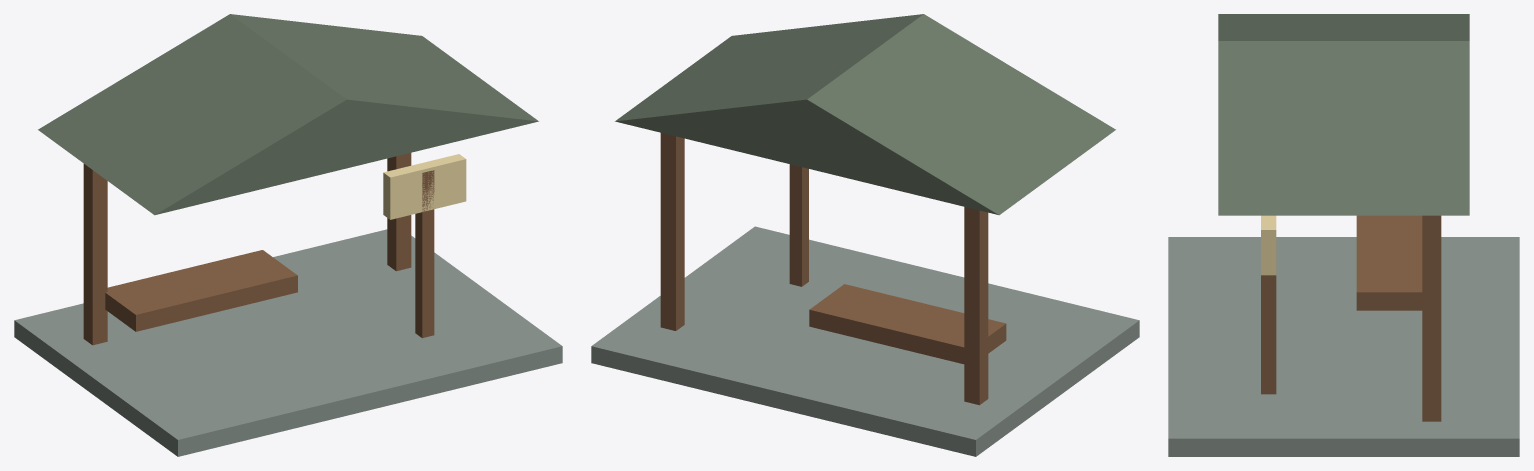
Rendered from bld_coach_station.glb.
3 views of the same model, side by side, from view 1: azimuth 30°, elevation 25°; view 2: azimuth 150°, elevation 25°; view 3: azimuth 270°, elevation 25° (orthographic). The views are drawn at different scales.
Parts seen in each view (by area): view 1: bld_coach_station; view 2: bld_coach_station; view 3: bld_coach_station.
Boxes of the visible parts, x1,y1,x2,y2 form: bld_coach_station: (14,14,562,456); bld_coach_station: (591,14,1139,456); bld_coach_station: (1168,14,1519,456).
Size of the model in its own units: 3.8 by 2.77 by 2.8.
1 material, 1 textured.
